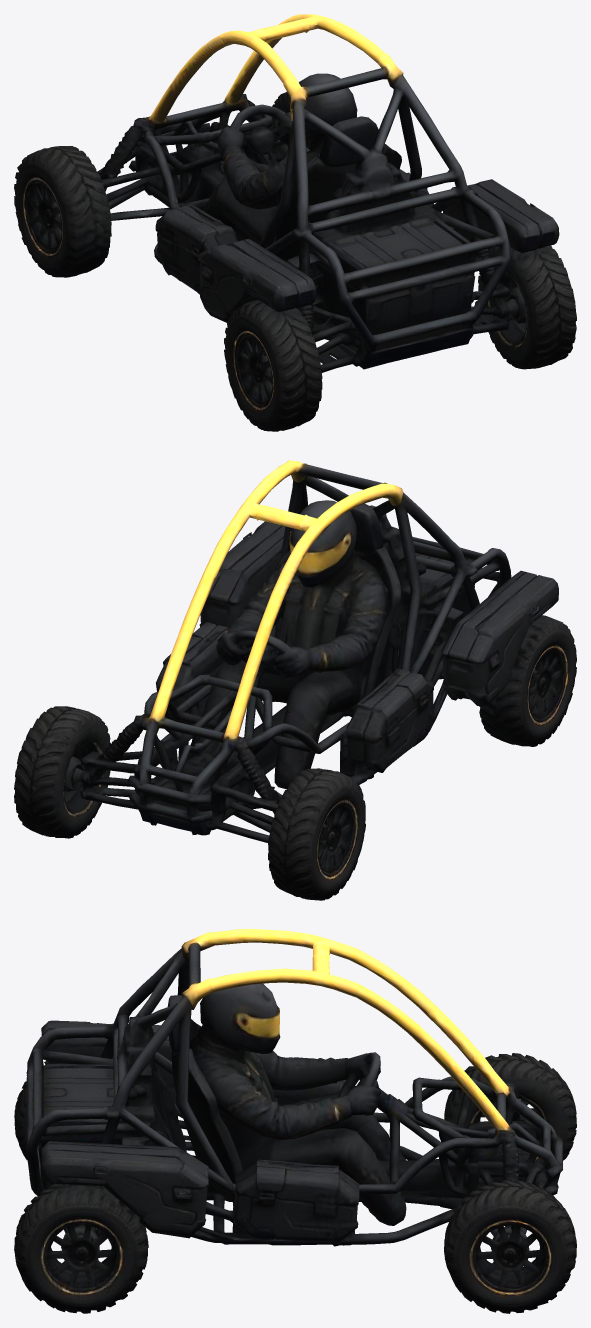
File: nomad-dark.glb
3 renders of one model, top to bottom at view 1: azimuth 30°, elevation 25°; view 2: azimuth 150°, elevation 25°; view 3: azimuth 270°, elevation 25°, orthographic.
Visible parts, largest first — view 1: chassis; view 2: chassis; view 3: chassis.
Boxes of the visible parts, <box> form: chassis: <box>14,14,576,431</box>; chassis: <box>14,460,576,900</box>; chassis: <box>14,929,576,1313</box>.
Bounding box in the file's own units: 2.8 × 2.6 × 4.5.
1 material, 1 textured.
